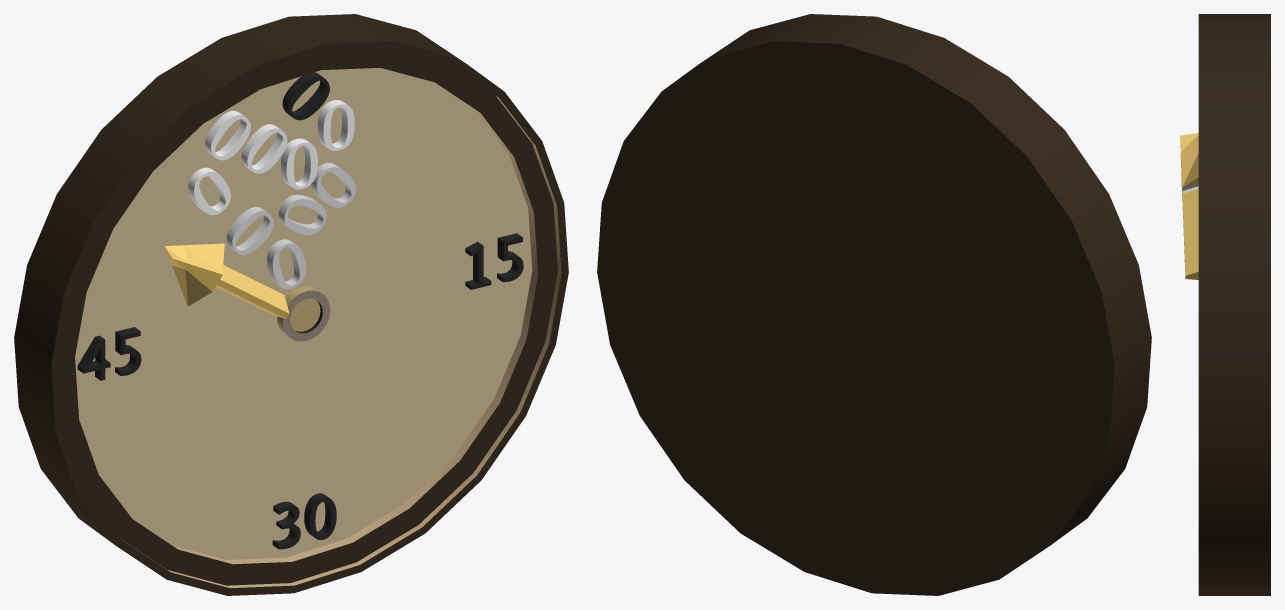
File: clock.fbx
3 views of the same model, side by side, from view 1: azimuth 30°, elevation 25°; view 2: azimuth 150°, elevation 25°; view 3: azimuth 270°, elevation 25° (orthographic). The views are drawn at different scales.
Visible parts, largest first — view 1: Model, G_30_1, G_45_1, G_15_1, G_0_5, G_0_10, G_0_6, G_0_1, G_0_4, G_0_2, G_0_8, G_0_7 (+2 smaller); view 2: Model; view 3: Model.
Part boxes in pixels (x1=…): Model: x1=14, y1=14, x2=568, y2=595; G_30_1: x1=272, y1=493, x2=336, y2=549; G_45_1: x1=77, y1=327, x2=141, y2=380; G_15_1: x1=465, y1=233, x2=523, y2=289; G_0_5: x1=241, y1=124, x2=287, y2=173; G_0_10: x1=205, y1=110, x2=250, y2=160; G_0_6: x1=226, y1=206, x2=273, y2=254; G_0_1: x1=282, y1=72, x2=329, y2=120; G_0_4: x1=317, y1=100, x2=354, y2=150; G_0_2: x1=281, y1=138, x2=317, y2=189; G_0_8: x1=267, y1=239, x2=306, y2=289; G_0_7: x1=188, y1=167, x2=230, y2=215; Model: x1=597, y1=14, x2=1151, y2=595; Model: x1=1180, y1=14, x2=1270, y2=595.
Size of the model in its own units: 101 by 101 by 15.86.
